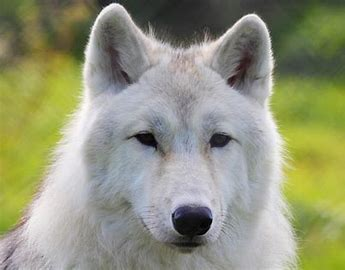dog: (35, 8, 303, 263)
